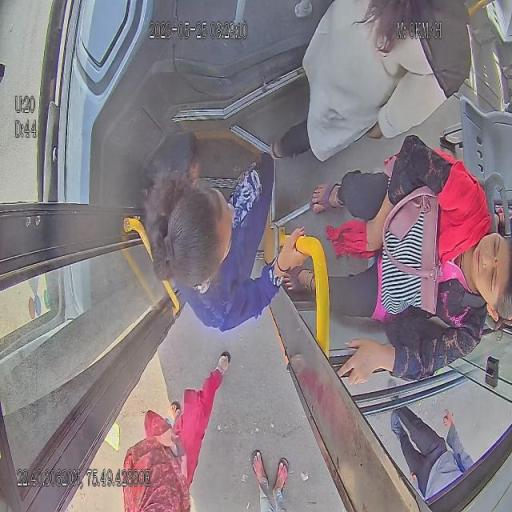persona: (278, 134, 512, 386), (268, 0, 474, 162), (143, 151, 315, 333), (121, 350, 232, 511), (390, 404, 474, 503), (250, 448, 290, 511)
